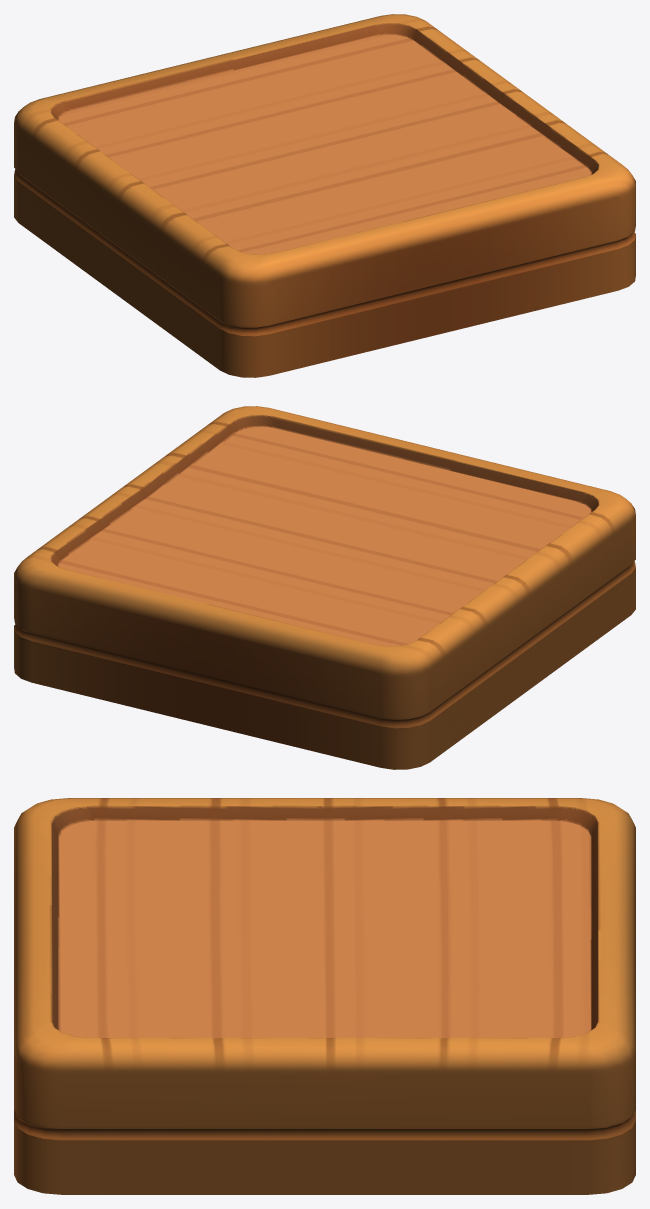
The model's file is model_TraySpec4x4.fbx.
3 views of the same model, one above another, from view 1: azimuth 30°, elevation 25°; view 2: azimuth 150°, elevation 25°; view 3: azimuth 270°, elevation 25° (orthographic). The views are drawn at different scales.
Parts seen in each view (by area): view 1: model_TraySpec4x4; view 2: model_TraySpec4x4; view 3: model_TraySpec4x4.
Part boxes in pixels (box(x1,y1,x2,y2)): model_TraySpec4x4: box(14, 14, 635, 377); model_TraySpec4x4: box(14, 406, 635, 769); model_TraySpec4x4: box(14, 798, 635, 1194).
Bounding box in the file's own units: 198 × 49.5 × 198.
